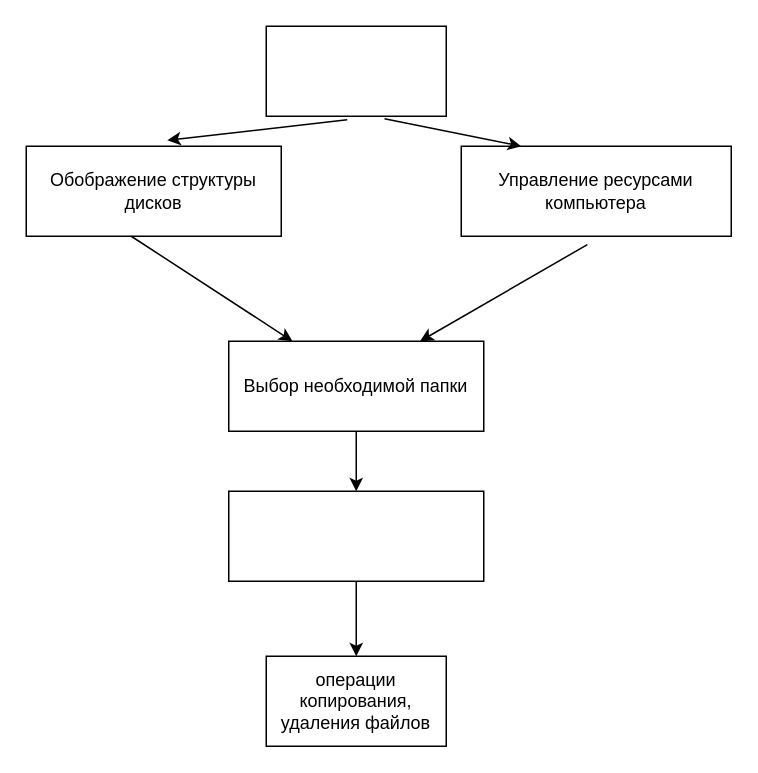
Some shapes in this 758 by 773 pixel diagram are drawn without their labels. Each missing label, with the box of its shape:
Обображение списка и свойств файлов: (227, 490, 484, 581)
Пользователь: (265, 25, 446, 116)
